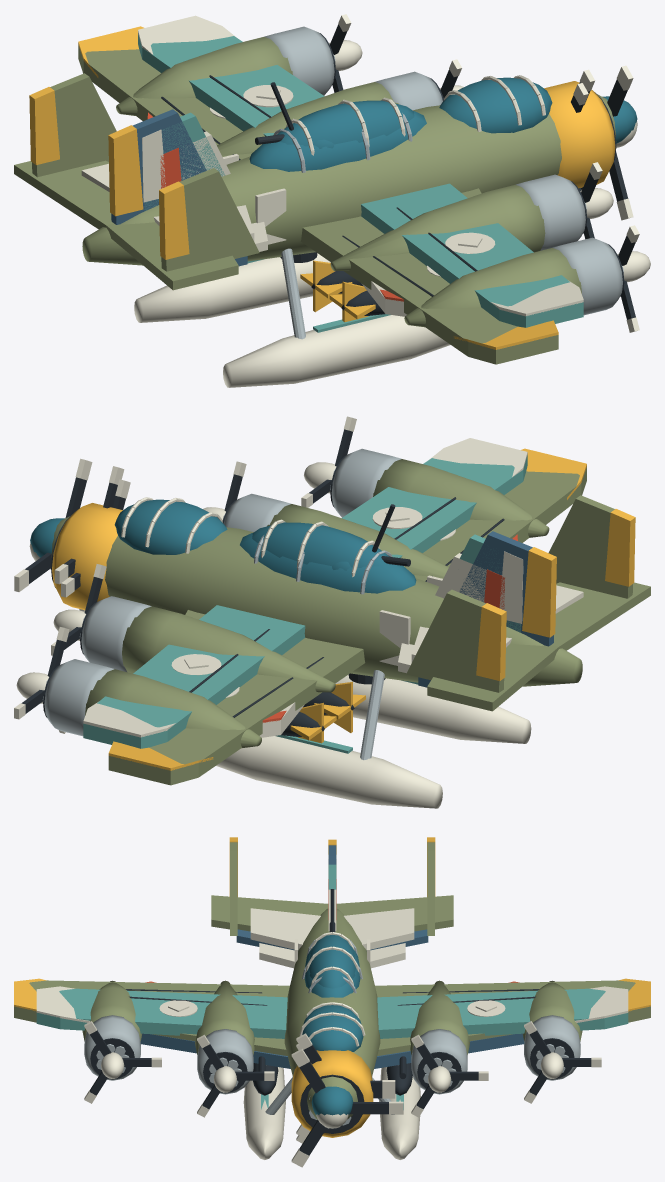
3 views of the same model, one above another, from view 1: azimuth 30°, elevation 25°; view 2: azimuth 150°, elevation 25°; view 3: azimuth 270°, elevation 25° (orthographic). The views are drawn at different scales.
Parts seen in each view (by area): view 1: Aircraft_heavy.002_Air_Olive.003, Aircraft_scout.002_Air_Ivory.003, Aircraft_scout.002_Air_Seafoam.003, Aircraft_heavy.002_Air_Aluminium.003, Aircraft_bomber.002_Air_Amber.003, Aircraft_heavy.002_Air_Amber.003, Aircraft_heavy.002_Air_Blue_Glass.003, Aircraft_scout.002_Air_Blue_Glass.003, Aircraft_bomber.002_Air_Blue_Glass.003, Aircraft_bomber.002_Air_Midnight_Blue.003, Aircraft_heavy.002_Air_Ivory.003, Aircraft_fighter.002_Air_Ivory.003 (+11 smaller); view 2: Aircraft_heavy.002_Air_Olive.003, Aircraft_scout.002_Air_Ivory.003, Aircraft_scout.002_Air_Seafoam.003, Aircraft_heavy.002_Air_Aluminium.003, Aircraft_bomber.002_Air_Amber.003, Aircraft_heavy.002_Air_Amber.003, Aircraft_heavy.002_Air_Blue_Glass.003, Aircraft_scout.002_Air_Blue_Glass.003, Aircraft_bomber.002_Air_Blue_Glass.003, Aircraft_bomber.002_Air_Midnight_Blue.003, Aircraft_fighter.002_Air_Ivory.003, Aircraft_heavy.002_Air_Ivory.003 (+11 smaller); view 3: Aircraft_heavy.002_Air_Olive.003, Aircraft_scout.002_Air_Ivory.003, Aircraft_scout.002_Air_Seafoam.003, Aircraft_heavy.002_Air_Aluminium.003, Aircraft_heavy.002_Air_Charcoal.003, Aircraft_heavy.002_Air_Blue_Glass.003, Aircraft_bomber.002_Air_Midnight_Blue.003, Aircraft_bomber.002_Air_Amber.003, Aircraft_scout.002_Air_Blue_Glass.003, Aircraft_heavy.002_Air_Amber.003, Aircraft_fighter.002_Air_Ivory.003, Propeller.002_Air_Charcoal.003 (+13 smaller).
Part boxes in pixels (box(x1,y1,x2,y2)): Aircraft_heavy.002_Air_Olive.003: box(14, 37, 616, 364); Aircraft_scout.002_Air_Ivory.003: box(81, 15, 583, 387); Aircraft_scout.002_Air_Seafoam.003: box(138, 33, 583, 332); Aircraft_heavy.002_Air_Aluminium.003: box(264, 26, 623, 315); Aircraft_bomber.002_Air_Amber.003: box(108, 81, 615, 312); Aircraft_heavy.002_Air_Amber.003: box(29, 26, 558, 349); Aircraft_heavy.002_Air_Blue_Glass.003: box(315, 77, 637, 148); Aircraft_scout.002_Air_Blue_Glass.003: box(277, 100, 414, 146); Aircraft_bomber.002_Air_Blue_Glass.003: box(249, 111, 426, 171); Aircraft_bomber.002_Air_Midnight_Blue.003: box(111, 109, 247, 266); Aircraft_heavy.002_Air_Ivory.003: box(210, 75, 545, 276); Aircraft_fighter.002_Air_Ivory.003: box(181, 131, 406, 316); Aircraft_heavy.002_Air_Olive.003: box(51, 459, 650, 785); Aircraft_scout.002_Air_Ivory.003: box(83, 438, 583, 808); Aircraft_scout.002_Air_Seafoam.003: box(83, 455, 527, 753); Aircraft_heavy.002_Air_Aluminium.003: box(42, 448, 401, 736); Aircraft_bomber.002_Air_Amber.003: box(52, 503, 556, 732); Aircraft_heavy.002_Air_Amber.003: box(108, 448, 635, 770); Aircraft_heavy.002_Air_Blue_Glass.003: box(30, 499, 350, 570); Aircraft_scout.002_Air_Blue_Glass.003: box(252, 522, 388, 567); Aircraft_bomber.002_Air_Blue_Glass.003: box(240, 533, 416, 593); Aircraft_bomber.002_Air_Midnight_Blue.003: box(418, 531, 553, 687); Aircraft_fighter.002_Air_Ivory.003: box(259, 553, 486, 737); Aircraft_heavy.002_Air_Ivory.003: box(121, 497, 455, 697); Aircraft_heavy.002_Air_Olive.003: box(14, 842, 650, 1119); Aircraft_scout.002_Air_Ivory.003: box(36, 855, 628, 1159); Aircraft_scout.002_Air_Seafoam.003: box(36, 864, 628, 1109); Aircraft_heavy.002_Air_Aluminium.003: box(84, 1015, 580, 1094); Aircraft_heavy.002_Air_Charcoal.003: box(90, 922, 574, 1095); Aircraft_heavy.002_Air_Blue_Glass.003: box(302, 945, 363, 1115); Aircraft_bomber.002_Air_Midnight_Blue.003: box(140, 845, 524, 1068); Aircraft_bomber.002_Air_Amber.003: box(291, 839, 373, 1137); Aircraft_scout.002_Air_Blue_Glass.003: box(309, 935, 355, 988); Aircraft_heavy.002_Air_Amber.003: box(14, 837, 650, 1011); Aircraft_fighter.002_Air_Ivory.003: box(259, 889, 405, 968); Propeller.002_Air_Charcoal.003: box(299, 1061, 388, 1155).
Bounding box in the file's own units: 1.71 × 0.7856 × 2.26.
